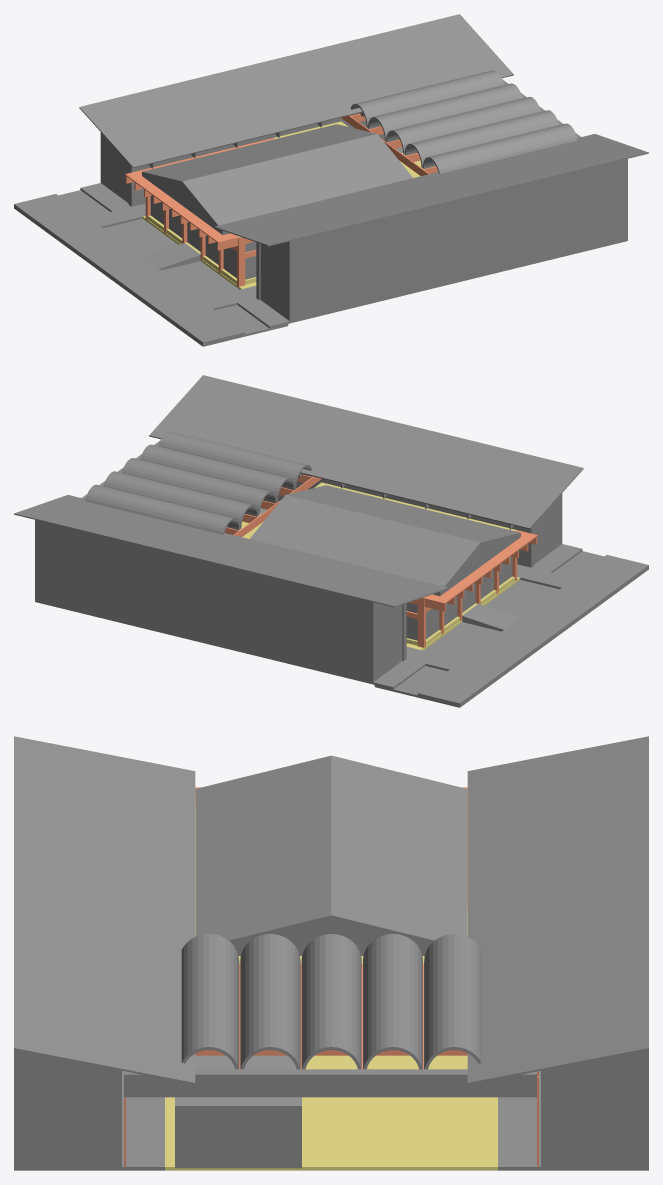
The picture shows the model from 3 angles, top to bottom: view 1: azimuth 30°, elevation 25°; view 2: azimuth 150°, elevation 25°; view 3: azimuth 270°, elevation 25°; orthographic projection. The views are drawn at different scales.
Parts seen in each view (by area): view 1: floor.007, existing roof side, Plane.022, exist-road, Plane.042, existing roof side.001, Plane.034, exist-demo-floor, existing truss roof3, Plane.039, exist-con-column01, existing column (+2 smaller); view 2: floor.007, existing roof side, Plane.022, exist-road, Plane.042, existing roof side.001, Plane.034, exist-demo-floor, existing truss roof3, Plane.039, exist-con-column01, existing column (+3 smaller); view 3: existing roof side, Plane.022, Plane.042, floor.007, floor 1st structure.001, existing roof side.001, Plane.038, Plane.037, existing column, existing truss roof3.
Boxes of the visible parts, x1,y1,x2,y2 form: floor.007: (80, 117, 627, 328); existing roof side: (79, 14, 648, 248); Plane.022: (142, 124, 412, 234); exist-road: (14, 190, 288, 346); Plane.042: (350, 70, 577, 173); existing roof side.001: (124, 64, 603, 230); Plane.034: (150, 195, 256, 279); exist-demo-floor: (125, 138, 274, 243); existing truss roof3: (341, 113, 438, 175); Plane.039: (143, 243, 200, 270); exist-con-column01: (145, 196, 245, 286); existing column: (128, 119, 386, 300); floor.007: (35, 478, 582, 689); existing roof side: (14, 375, 583, 609); Plane.022: (250, 485, 520, 595); exist-road: (374, 551, 648, 707); Plane.042: (85, 431, 312, 534); existing roof side.001: (59, 425, 538, 591); Plane.034: (406, 556, 512, 640); exist-demo-floor: (421, 530, 537, 604); existing truss roof3: (224, 474, 321, 536); Plane.039: (462, 604, 519, 631); exist-con-column01: (417, 557, 517, 647); existing column: (276, 480, 534, 661); existing roof side: (14, 736, 648, 1078); Plane.022: (195, 755, 467, 955); Plane.042: (181, 934, 481, 1069); floor.007: (14, 1050, 648, 1170); floor 1st structure.001: (165, 1055, 497, 1170); existing roof side.001: (165, 765, 497, 1084); Plane.038: (124, 1069, 536, 1097); Plane.037: (175, 1055, 301, 1168); existing column: (111, 1069, 551, 1167); existing truss roof3: (124, 964, 538, 1166).
Size of the model in its own units: 42.3 by 7.76 by 31.07.
